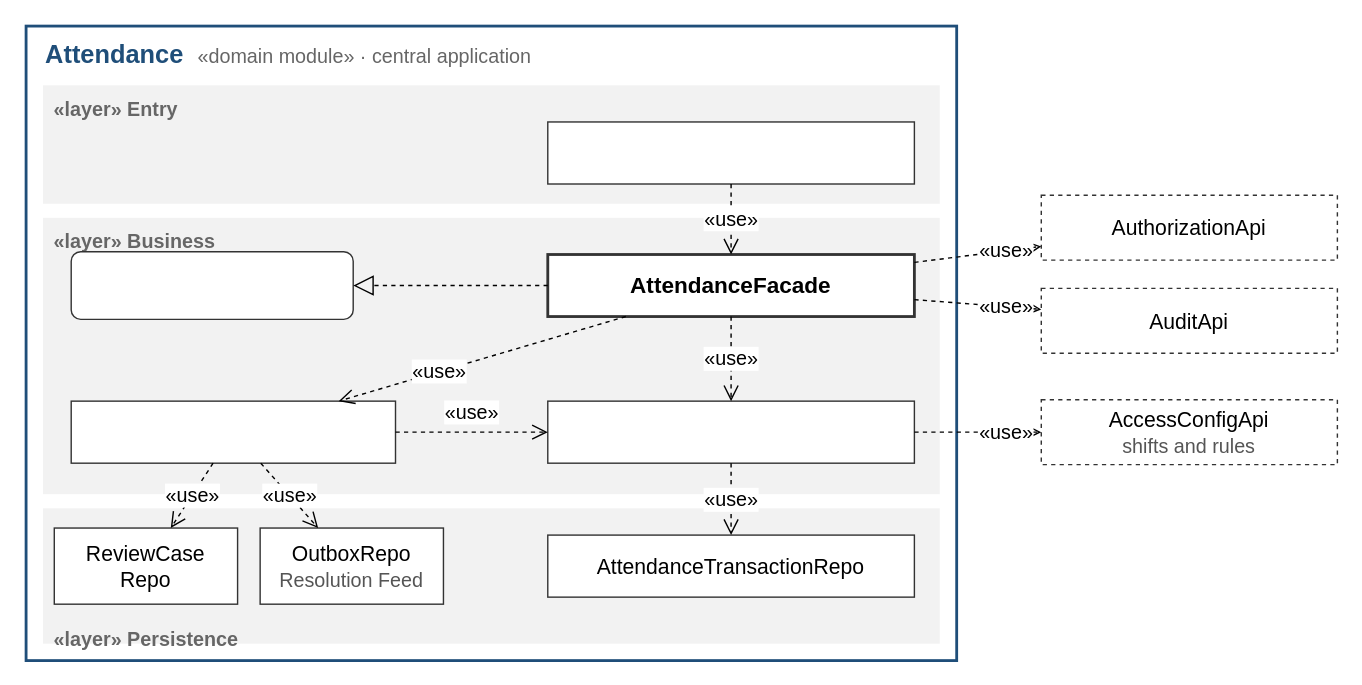
Image size: 1362x685. Some labels were removed from this diagram. The centre of each missing label's shape, as x and y in pixels:
"AttendanceConsolidation" goes at (730,431).
"AttendanceController" goes at (730,152).
"AttendanceReview" goes at (233,431).
"«interface» AttendanceApi" goes at (211,284).
